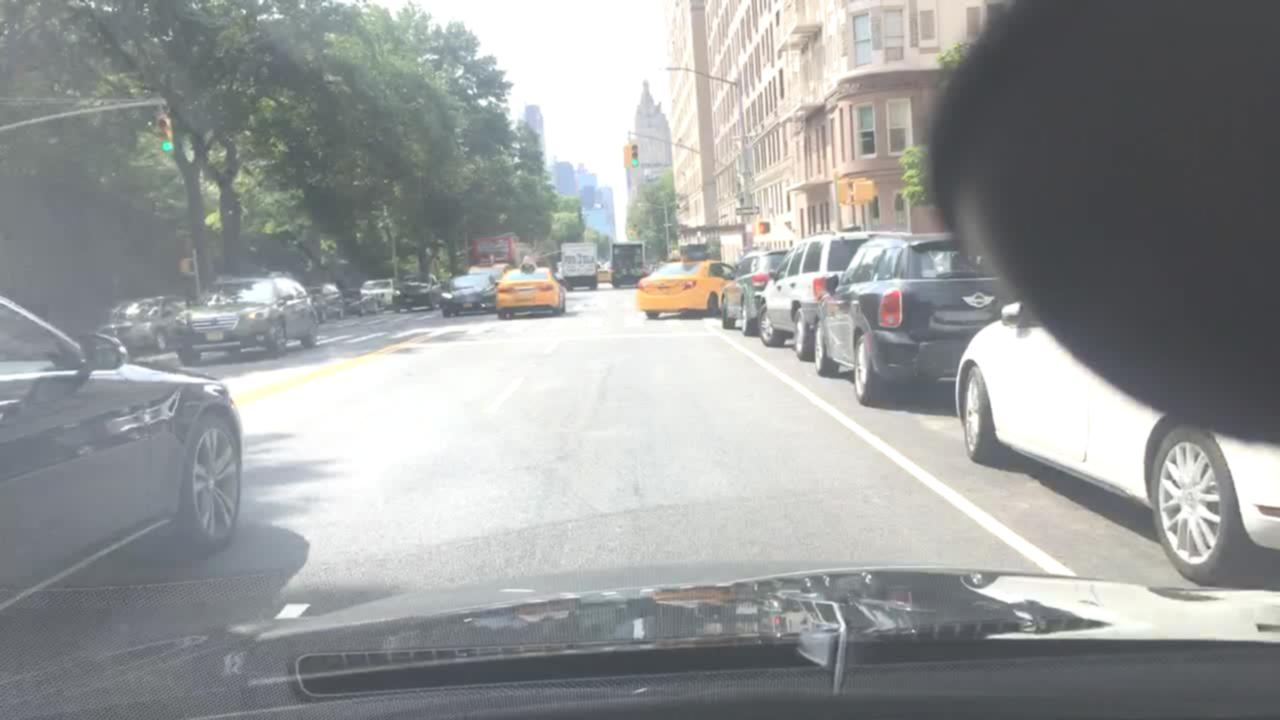mini: (953, 286, 1004, 313)
